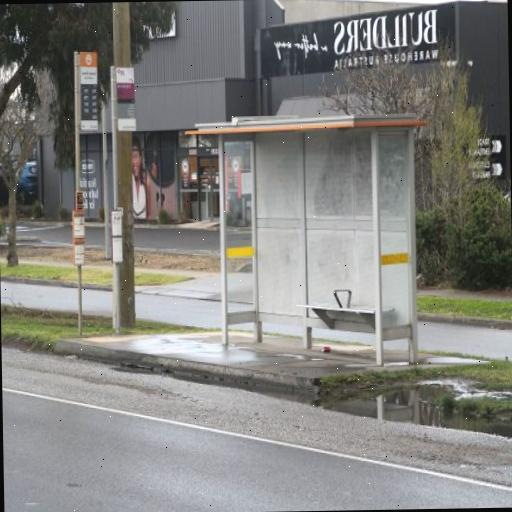clear_path: (64, 332, 378, 378)
signage: (69, 48, 101, 337), (111, 67, 139, 331)
